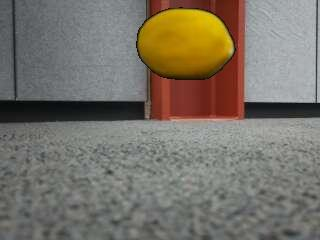lemon: (138, 8, 235, 78)
